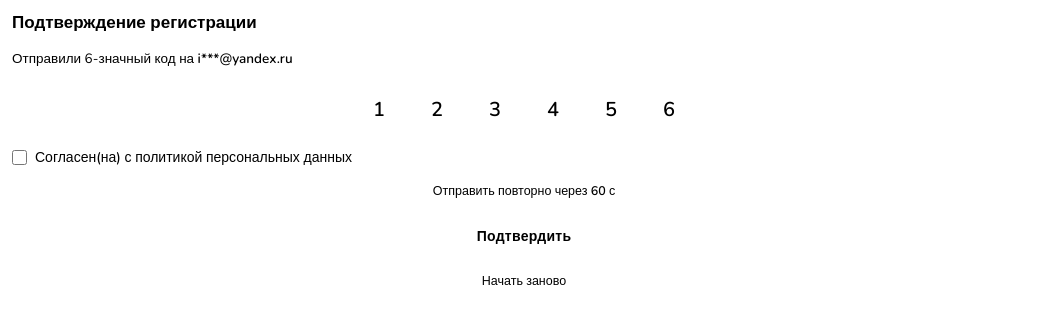
Test: Яндекс (email фиксирован) › без согласия код не подтверждается
This screenshot has width=1048, height=326.
Step 1. Click the button "Подтвердить" → (524, 236), box [12,214,1036,258]
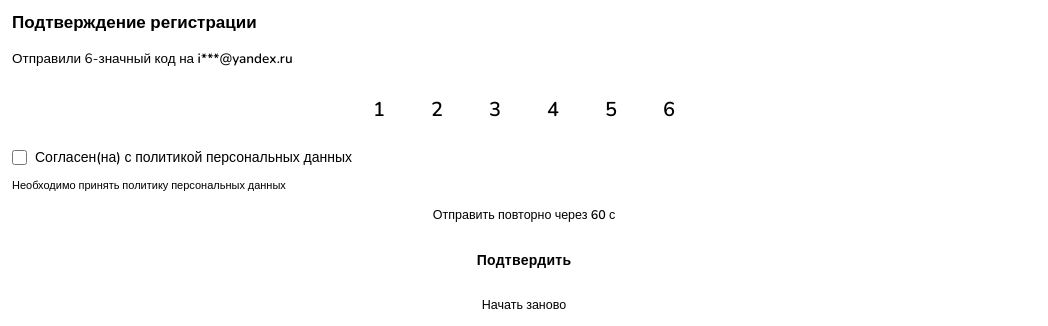
expect the text "Необходимо принять политику персональных данных" is shown: met, box [12,178,286,192]
